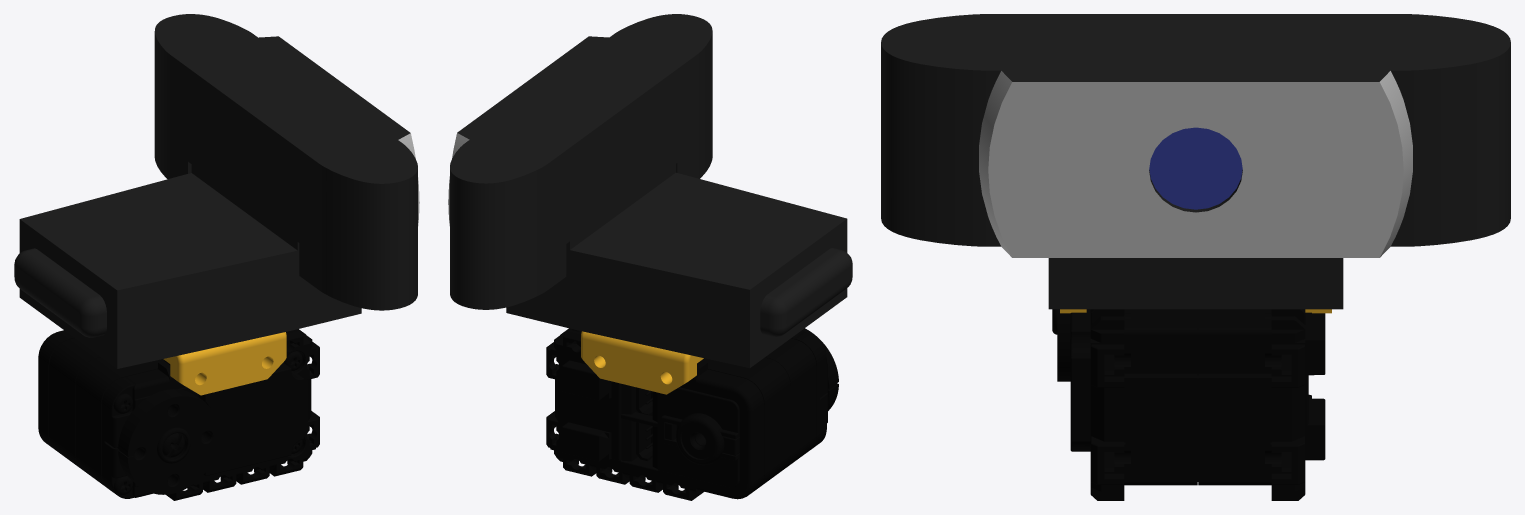
File: Head.dae
3 renders of one model, left to right at view 1: azimuth 30°, elevation 25°; view 2: azimuth 150°, elevation 25°; view 3: azimuth 270°, elevation 25°, orthographic. The views are drawn at different scales.
Parts seen in each view (by area): view 1: Body1_Plastic_-_Glossy_(Black), Body1_Glossy_-_Black (×2), Body1_Plastic_-_Matte_(Yellow); view 2: Body1_Plastic_-_Glossy_(Black), Body1_Glossy_-_Black (×2), Body1_Plastic_-_Matte_(Yellow); view 3: Body1_Plastic_-_Glossy_(Black), Body1_Plastic_-_Glossy_(Grey), Body1_Glossy_-_Black (×2), Body1_Plastic_-_Glossy_(Blue).
Part boxes in pixels (box(x1,y1,x2,y2)): Body1_Plastic_-_Glossy_(Black): box(14, 14, 417, 368); Body1_Glossy_-_Black (×2): box(38, 329, 319, 500); Body1_Plastic_-_Matte_(Yellow): box(163, 332, 286, 395); Body1_Plastic_-_Glossy_(Black): box(450, 14, 852, 368); Body1_Glossy_-_Black (×2): box(546, 328, 838, 500); Body1_Plastic_-_Matte_(Yellow): box(581, 331, 703, 394); Body1_Plastic_-_Glossy_(Black): box(881, 14, 1510, 309); Body1_Plastic_-_Glossy_(Grey): box(979, 71, 1412, 257); Body1_Glossy_-_Black (×2): box(1052, 309, 1325, 500); Body1_Plastic_-_Glossy_(Blue): box(1149, 127, 1242, 209).
Size of the model in its own units: 0.0712 by 0.094 by 0.0779.
